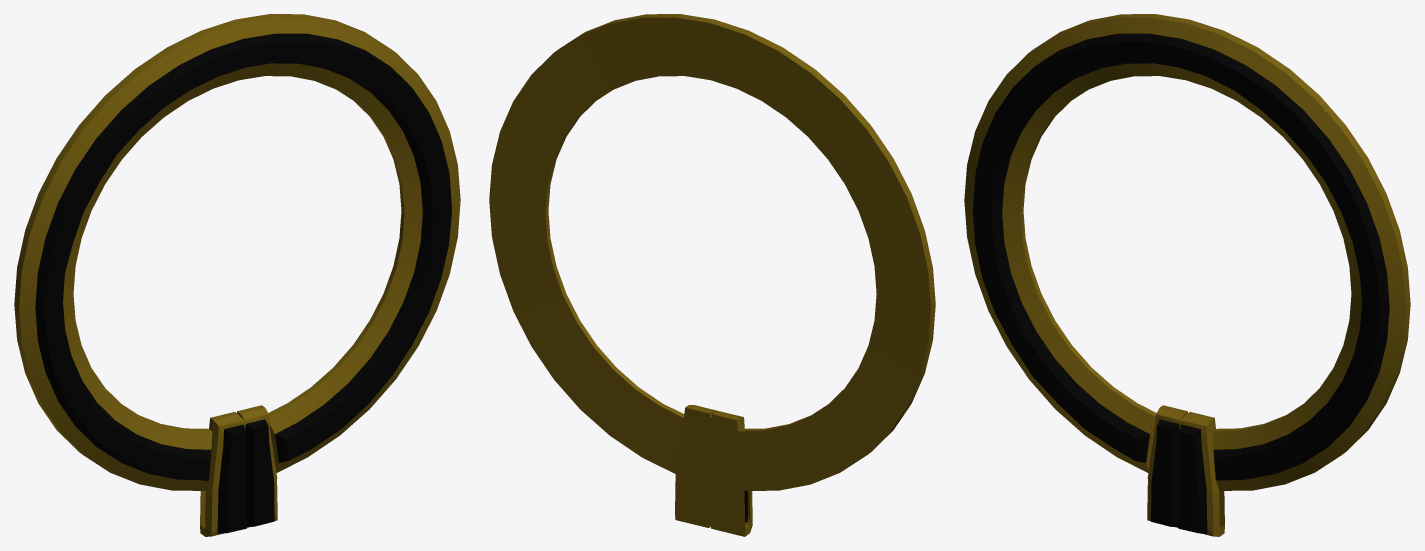
The model's file is Cuerpo Roto Circulo.fbx.
The picture shows the model from 3 angles, left to right: view 1: azimuth 30°, elevation 25°; view 2: azimuth 150°, elevation 25°; view 3: azimuth 330°, elevation 25°; orthographic projection.
Visible parts, largest first — view 1: pSphere18; view 2: pSphere18; view 3: pSphere18.
Boxes of the visible parts, box(x1,y1,x2,y2) form: pSphere18: box(14, 14, 460, 536); pSphere18: box(489, 14, 935, 536); pSphere18: box(964, 14, 1410, 536).
Size of the model in its own units: 4.86 by 5.32 by 0.2945.
